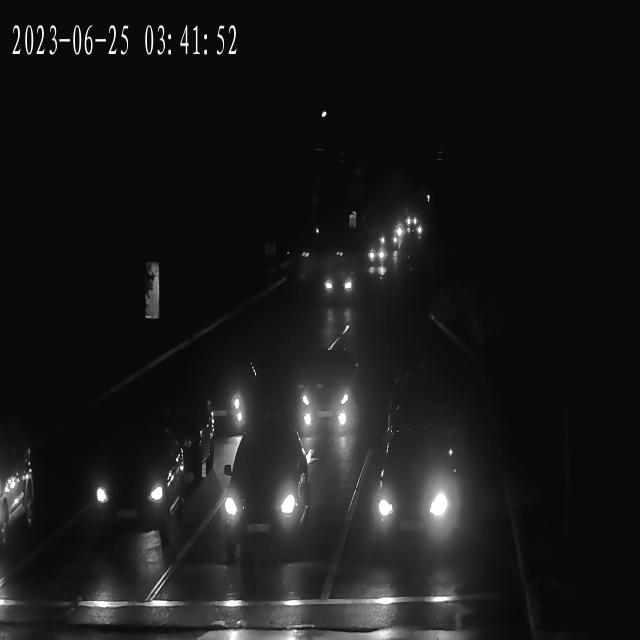Car: (215, 439, 311, 558), (78, 430, 184, 533), (364, 448, 458, 542), (144, 387, 218, 496), (0, 411, 40, 572), (190, 355, 252, 431), (321, 268, 358, 305), (364, 244, 387, 266), (378, 232, 399, 252), (392, 218, 404, 236), (410, 225, 423, 237)
